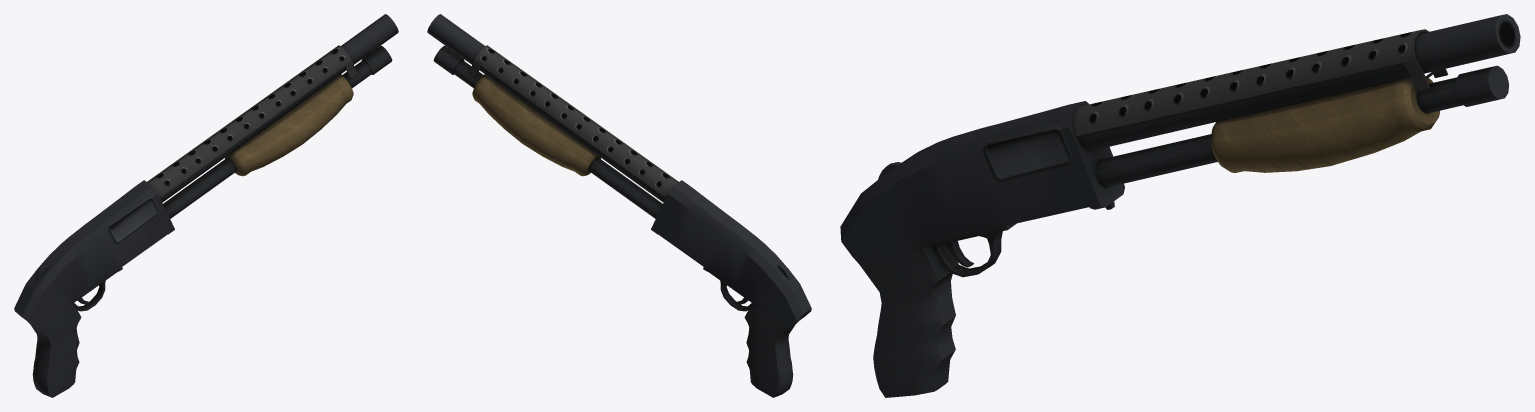
The model's file is shotgun_000008.obj.
The picture shows the model from 3 angles, left to right: view 1: azimuth 30°, elevation 25°; view 2: azimuth 150°, elevation 25°; view 3: azimuth 330°, elevation 25°; orthographic projection. The views are drawn at different scales.
Visible parts, largest first — view 1: mesh_Cube.001; view 2: mesh_Cube.001; view 3: mesh_Cube.001.
Part boxes in pixels (x1=…): mesh_Cube.001: x1=14, y1=14, x2=398, y2=397; mesh_Cube.001: x1=427, y1=14, x2=811, y2=397; mesh_Cube.001: x1=840, y1=14, x2=1520, y2=397.
Bounding box in the file's own units: 1.65 × 1.23 × 0.1708.
Materials: 1 (1 with a texture image).
